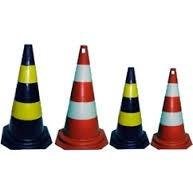traffic_cone: (55, 44, 109, 150), (0, 43, 53, 150), (151, 67, 193, 150), (110, 66, 150, 149)
